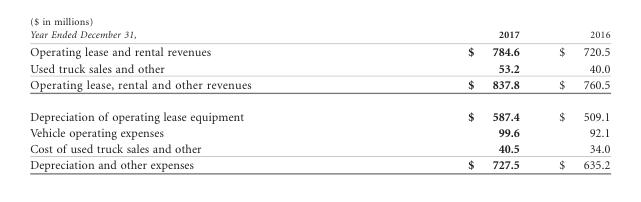table: (29, 28, 609, 171)
table column: (29, 28, 358, 171), (358, 28, 538, 171), (538, 28, 609, 171)
table column header: (29, 28, 609, 42)
table row: (29, 76, 609, 100), (29, 100, 609, 124), (29, 42, 609, 59), (29, 59, 609, 76), (29, 124, 609, 140), (29, 140, 609, 156), (29, 156, 609, 171), (29, 28, 609, 42)
